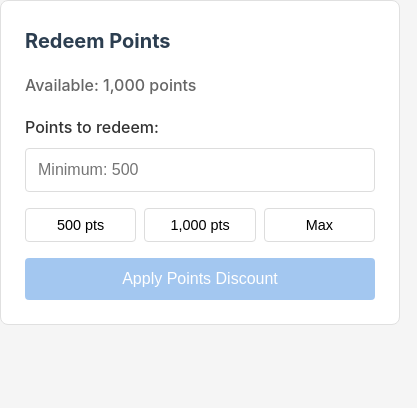
Test: PointRedemptionForm › should display error when points below minimum
Set to valid amount to enable button
Type "500" into the number field labelled "Points to redeem:" at (200, 170), box [25,148,375,192]
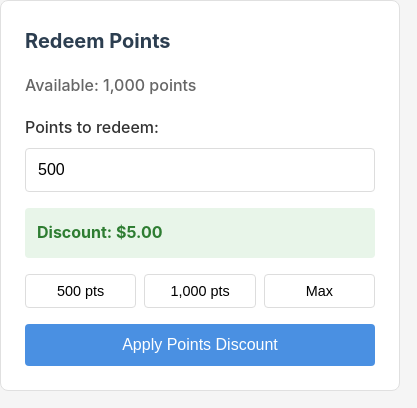
Change to invalid amount (below minimum) - button becomes disabled
Replace the text in the number field labelled "Points to redeem:" with "400" at (200, 170), box [25,148,375,192]
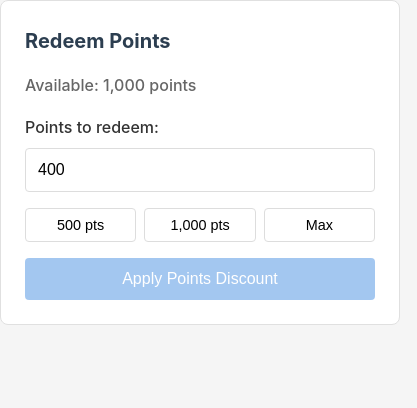
Expected: the button "Apply Points Discount" is disabled, [25,258,375,300]
